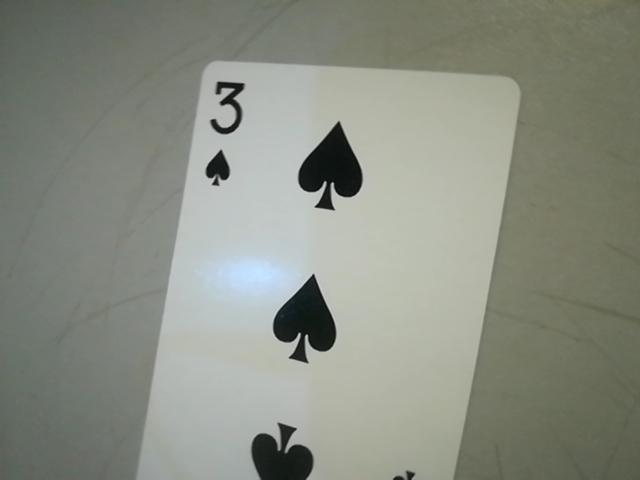ht 3: (190, 72, 258, 198)
